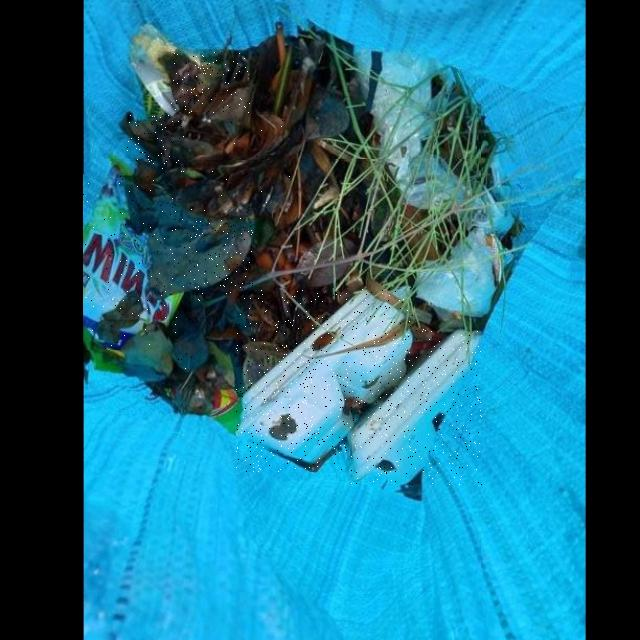biowaste: (150, 167, 254, 296), (185, 113, 291, 216), (128, 112, 254, 165), (171, 52, 250, 127), (168, 291, 209, 371)
styrofoam: (237, 288, 414, 472), (349, 328, 482, 484)
wrapper: (83, 174, 184, 349)
